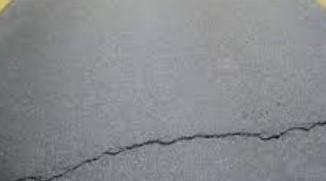crack: (5, 121, 326, 181)
